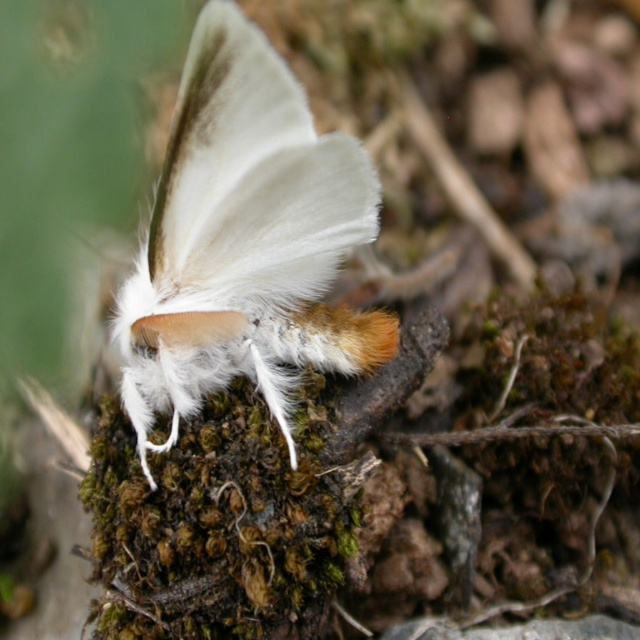Butterfly: (105, 0, 398, 489)
